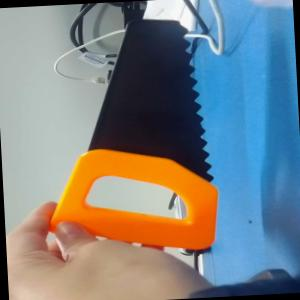serrote: (34, 15, 220, 242)
